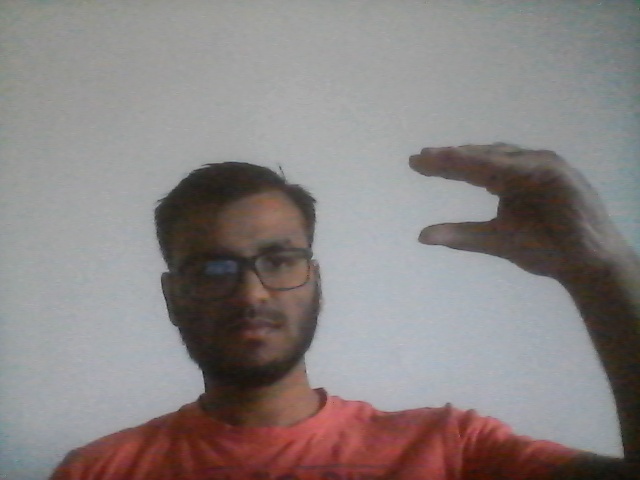No: (402, 143, 627, 276)
